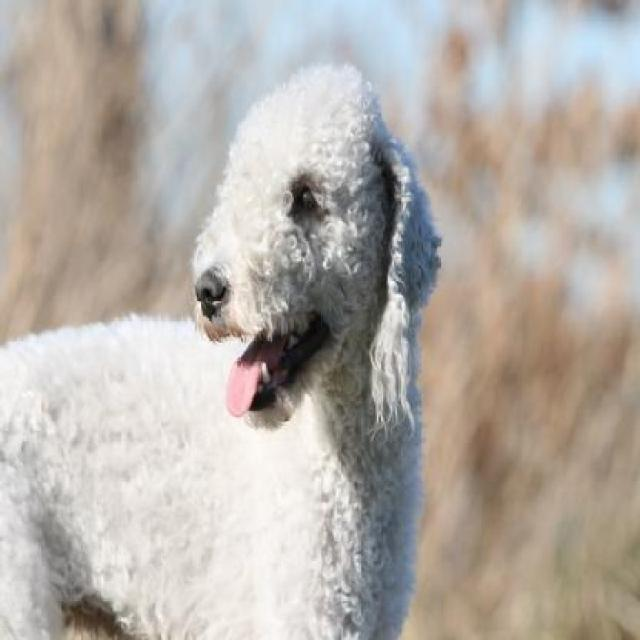animals: (13, 11, 532, 640)
